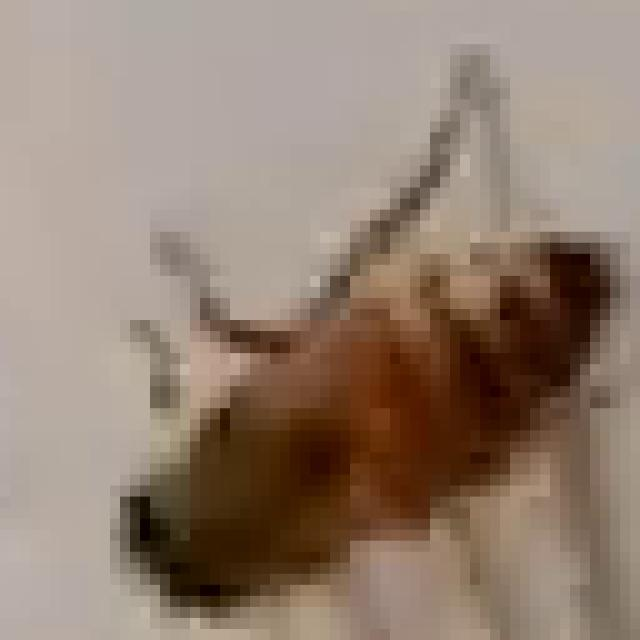honeybee: (111, 192, 637, 624)
